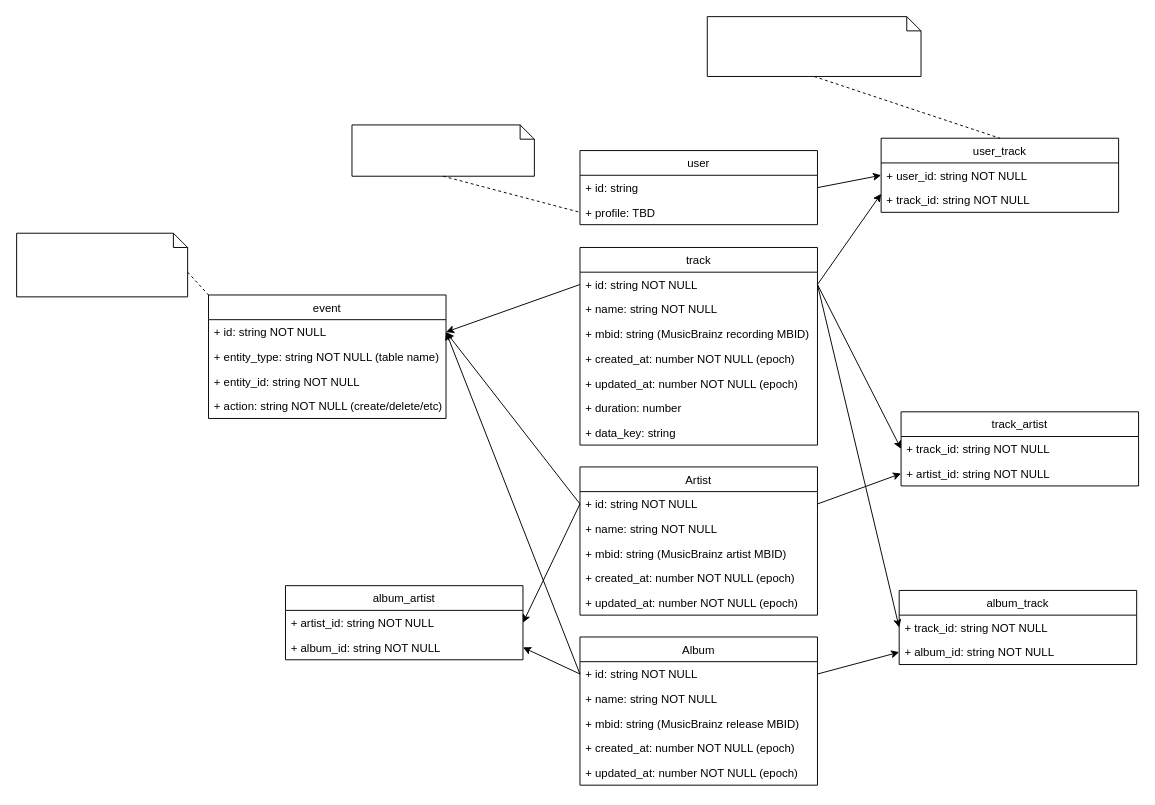
Image size: 1155x805. Some labels were removed from this diagram. Here are the shapes that lost their labels. From the top down, the centre of each, then its label:
At [813,46]: "should be able to populate users view with album/artists based on tracks".
At [442,150]: "some link/external_id to auth/CRM service".
At [102,264]: "tracks events, used to sync without doing a full rebuild".
